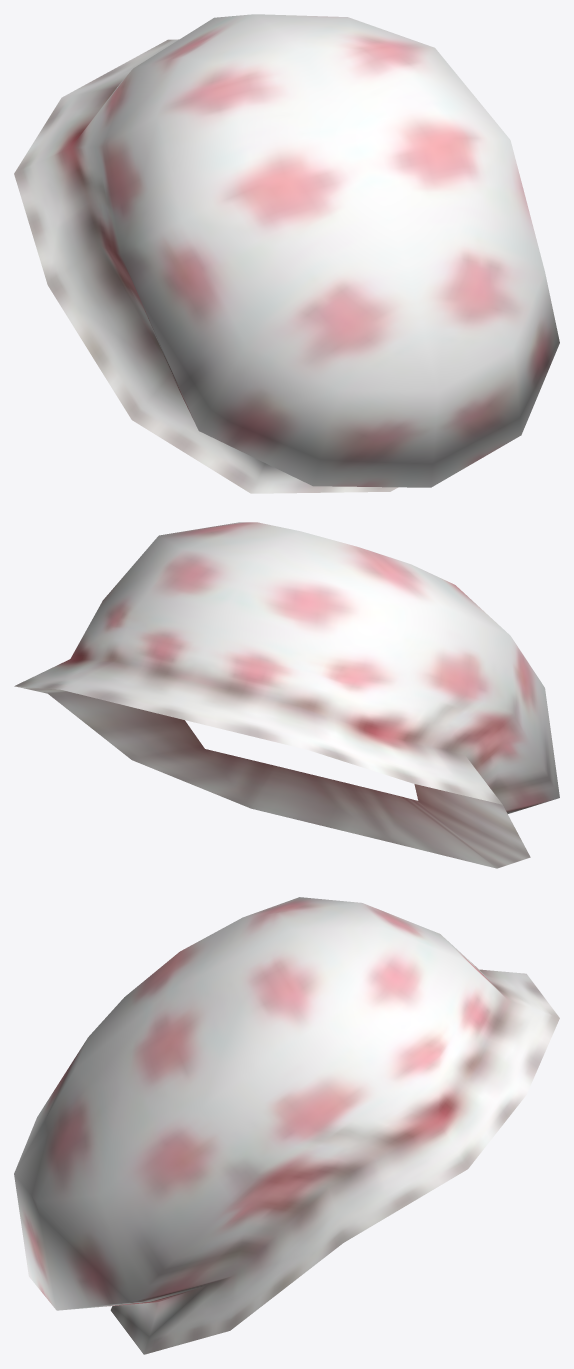
File: showerCap.glb
3 renders of one model, top to bottom at view 1: azimuth 30°, elevation 25°; view 2: azimuth 150°, elevation 25°; view 3: azimuth 270°, elevation 25°, orthographic.
Visible parts, largest first — view 1: showerCap; view 2: showerCap; view 3: showerCap.
Part boxes in pixels (x1,y1,x2,y2): showerCap: (14, 14, 559, 493); showerCap: (14, 522, 559, 868); showerCap: (14, 897, 559, 1354).
Bounding box in the file's own units: 0.3343 × 0.2656 × 0.344.
Materials: 1 (1 with a texture image).
